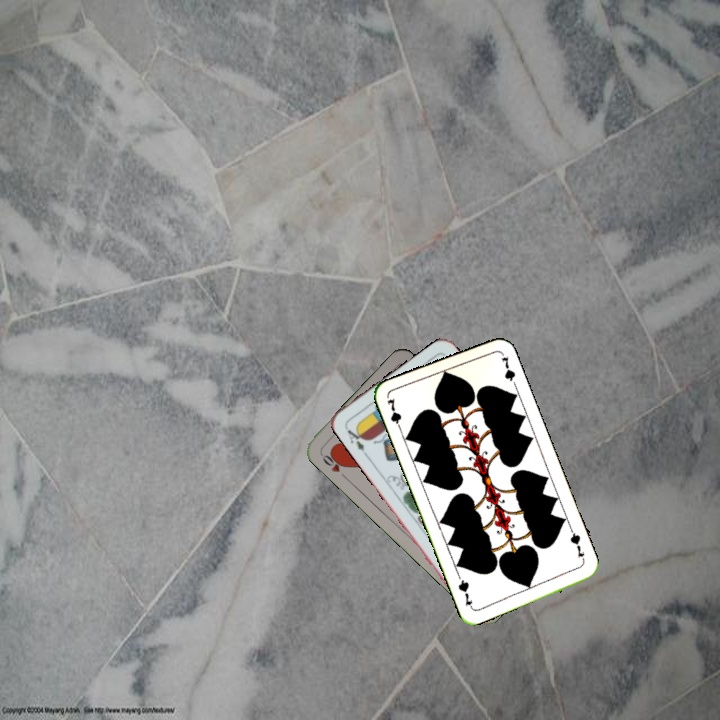EA: (341, 422, 370, 458)
G7: (383, 394, 405, 434), (566, 526, 588, 565)
HO: (317, 448, 350, 481)
